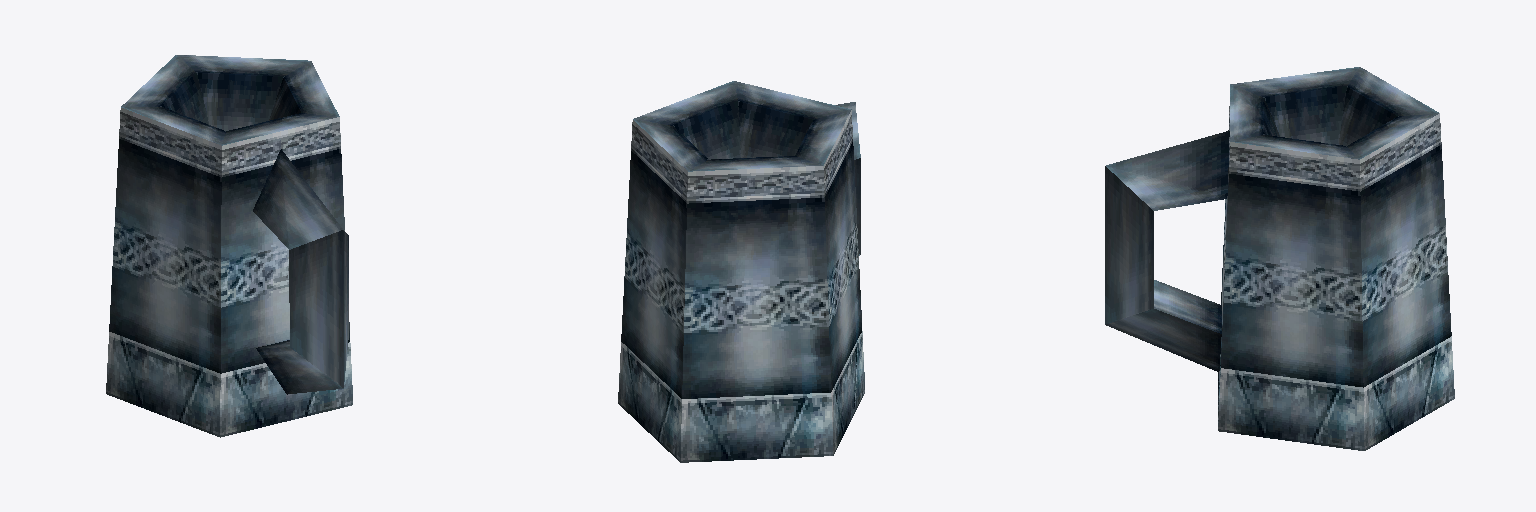
The picture shows the model from 3 angles: view 1: azimuth 30°, elevation 25°; view 2: azimuth 150°, elevation 25°; view 3: azimuth 270°, elevation 25°; orthographic projection.
Parts seen in each view (by area): view 1: mug02.m2; view 2: mug02.m2; view 3: mug02.m2.
Part boxes in pixels (bbox=[...]): mug02.m2: bbox=[106, 55, 352, 437]; mug02.m2: bbox=[618, 81, 864, 462]; mug02.m2: bbox=[1105, 67, 1454, 450].
Bounding box in the file's own units: 0.3782 × 0.4789 × 0.5319.
Materials: 1 (1 with a texture image).